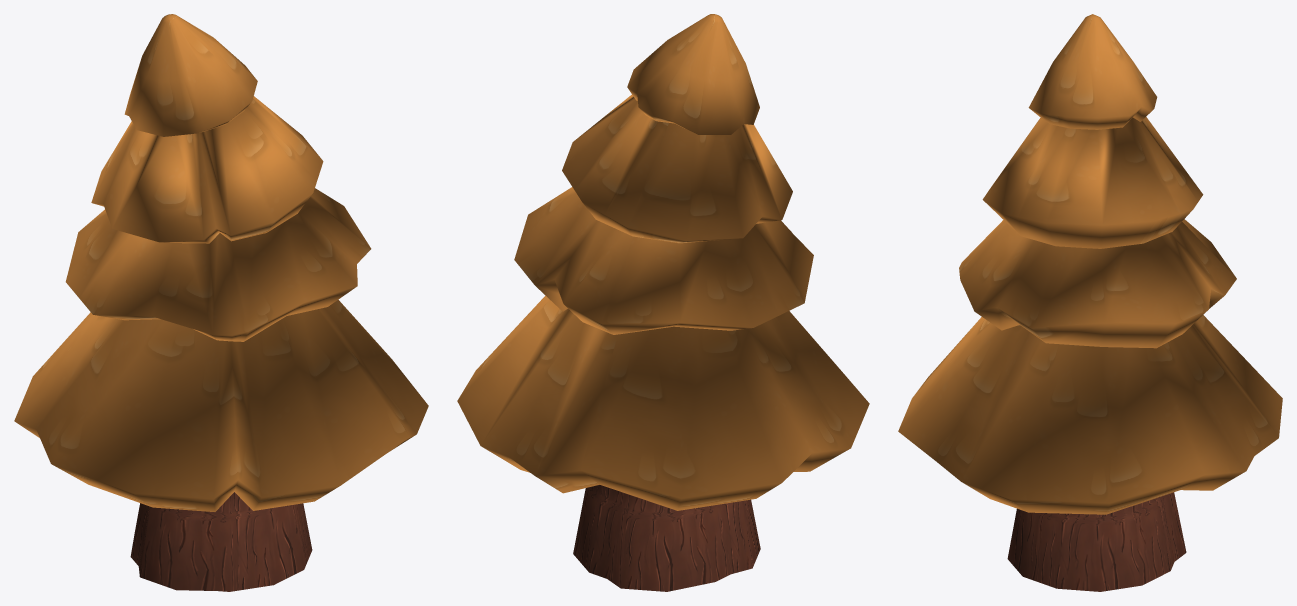
The model's file is Pine 1.FBX.
3 views of the same model, side by side, from view 1: azimuth 30°, elevation 25°; view 2: azimuth 150°, elevation 25°; view 3: azimuth 270°, elevation 25° (orthographic). The views are drawn at different scales.
Parts seen in each view (by area): view 1: Cone002; view 2: Cone002; view 3: Cone002.
Part boxes in pixels (box(x1,y1,x2,y2)): Cone002: box(14, 14, 428, 591); Cone002: box(457, 14, 869, 591); Cone002: box(898, 14, 1282, 591).
Bounding box in the file's own units: 22.17 × 32.49 × 21.89.
